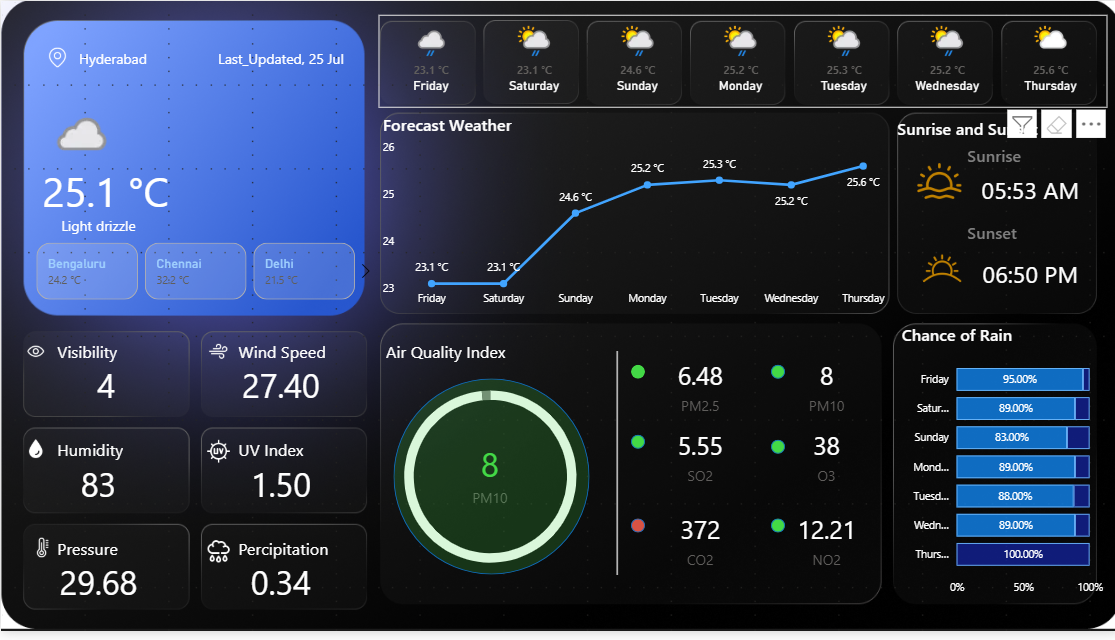

The dashboard page shown, as its layout file describes it:
{"tool":"powerbi","page":{"name":"Page 1","canvas":[1280,720],"ordinal":0},"visuals":[{"type":"advancedSlicerVisual","fields":{"Values":["Locations.location.name"]},"box":[16,272,416,75],"z":0},{"type":"shape","box":[32,176,176,80],"z":1000},{"type":"shape","box":[32,240,160,32],"z":2000},{"type":"shape","box":[80,48,96,32],"z":3000},{"type":"shape","box":[240,48,160,32],"z":4000},{"type":"image","box":[48,48,32,32],"z":5000},{"type":"cardVisual","fields":{"Data":["Min(Current.current.condition.icon)"]},"box":[32,96,112,80],"z":6000},{"type":"image","box":[16,384,48,32],"z":7000},{"type":"shape","box":[64,384,192,32],"z":8000},{"type":"image","box":[16,496,48,32],"z":9000},{"type":"shape","box":[64,496,192,32],"z":10000},{"type":"image","box":[224,384,48,32],"z":11000},{"type":"shape","box":[272,384,192,32],"z":12000},{"type":"image","box":[224,496,48,38],"z":13000},{"type":"shape","box":[272,608,192,32],"z":14000},{"type":"image","box":[16,608,64,32],"z":15000},{"type":"shape","box":[64,608,192,32],"z":16000},{"type":"image","box":[224,608,48,41],"z":17000},{"type":"shape","box":[272,496,192,32],"z":18000},{"type":"card","fields":{"Values":["Sum(Current.current.vis_km)"]},"box":[48,416,144,48],"z":19000},{"type":"card","fields":{"Values":["Sum(Current.current.wind_kph)"]},"box":[240,416,160,48],"z":20000},{"type":"card","fields":{"Values":["Sum(Current.current.uv)"]},"box":[240,528,160,48],"z":21000},{"type":"card","fields":{"Values":["Sum(Current.current.humidity)"]},"box":[32,528,160,48],"z":22000},{"type":"card","fields":{"Values":["Sum(Current.current.pressure_in)"]},"box":[32,640,160,48],"z":23000},{"type":"card","fields":{"Values":["Sum(Current.current.precip_mm)"]},"box":[240,640,160,48],"z":24000},{"type":"advancedSlicerVisual","fields":{"Values":["Forecast_Day.Day_Name"]},"box":[432,16,832,107],"z":25000},{"type":"lineChart","title":"Forecast Weather","fields":{"Y":["Sum(Forecast_Day.forecast.forecastday.day.avgtemp_c)"],"Category":["Forecast_Day.Day_Name"]},"box":[432,128,592,230],"z":26000},{"type":"shape","box":[1024,128,223,34],"z":27000},{"type":"shape","box":[1088,192,176,48],"z":28000},{"type":"shape","box":[1088,272,176,80],"z":29000},{"type":"shape","box":[1104,160,160,32],"z":30000},{"type":"shape","box":[1104,240,160,48],"z":31000},{"type":"image","box":[1040,272,71,68],"z":32000},{"type":"image","box":[1040,176,64,60],"z":33000},{"type":"hundredPercentStackedBarChart","title":"Chance of Rain","fields":{"Y":["Sum(Forecast_Day.forecast.forecastday.day.daily_chance_of_rain)","_Measures.Left_Value_Rain"],"Category":["Forecast_Day.Day_Name"]},"box":[1024,368,240,320],"z":34000},{"type":"shape","box":[440,384,195,32],"z":35000},{"type":"card","fields":{"Values":["Sum(Current.current.air_quality.pm10)"]},"box":[896,400,96,80],"z":36000},{"type":"card","fields":{"Values":["Sum(Current.current.air_quality.o3)"]},"box":[896,480,96,80],"z":37000},{"type":"card","fields":{"Values":["Sum(Current.current.air_quality.no2)"]},"box":[896,576,96,80],"z":38000},{"type":"card","fields":{"Values":["Sum(Current.current.air_quality.co)"]},"box":[752,576,96,80],"z":39000},{"type":"card","fields":{"Values":["Sum(Current.current.air_quality.so2)"]},"box":[752,480,96,80],"z":40000},{"type":"card","fields":{"Values":["Sum(Current.current.air_quality.pm2_5)"]},"box":[752,400,96,80],"z":41000},{"type":"shape","box":[720,416,16,16],"z":42000},{"type":"shape","box":[720,496,16,16],"z":43000},{"type":"shape","box":[720,592,16,16],"z":45000},{"type":"shape","box":[880,416,16,16],"z":46000},{"type":"shape","box":[880,501,16,16],"z":47000},{"type":"shape","box":[880,592,16,16],"z":48000},{"type":"shape","box":[624,400,160,256],"z":49000},{"type":"card","fields":{"Values":["Sum(Current.current.air_quality.pm10)"]},"box":[512,496,95,90],"z":50000},{"type":"donutChart","fields":{"Y":["_Measures.Left_Value_PM10","Sum(Current.current.air_quality.pm10)"]},"box":[432,416,256,256],"z":51000},{"type":"shape","box":[448,432,224,224],"z":52000}]}

Visuals, with their boxes in screenshot pixels (x1, y1, x2, y2), scaled from the page's 1280x720 canvas onto the 1115x640 screenshot:
advancedSlicerVisual - Locations.location.name: 14,242,376,308
shape: 28,156,181,228
shape: 28,213,167,242
shape: 70,43,153,71
shape: 209,43,348,71
image: 42,43,70,71
cardVisual - Min(Current.current.condition.icon): 28,85,125,156
image: 14,341,56,370
shape: 56,341,223,370
image: 14,441,56,469
shape: 56,441,223,469
image: 195,341,237,370
shape: 237,341,404,370
image: 195,441,237,475
shape: 237,540,404,569
image: 14,540,70,569
shape: 56,540,223,569
image: 195,540,237,577
shape: 237,441,404,469
card - Sum(Current.current.vis_km): 42,370,167,412
card - Sum(Current.current.wind_kph): 209,370,348,412
card - Sum(Current.current.uv): 209,469,348,512
card - Sum(Current.current.humidity): 28,469,167,512
card - Sum(Current.current.pressure_in): 28,569,167,612
card - Sum(Current.current.precip_mm): 209,569,348,612
advancedSlicerVisual - Forecast_Day.Day_Name: 376,14,1101,109
"Forecast Weather" lineChart: 376,114,892,318
shape: 892,114,1086,144
shape: 948,171,1101,213
shape: 948,242,1101,313
shape: 962,142,1101,171
shape: 962,213,1101,256
image: 906,242,968,302
image: 906,156,962,210
"Chance of Rain" hundredPercentStackedBarChart: 892,327,1101,612
shape: 383,341,553,370
card - Sum(Current.current.air_quality.pm10): 780,356,864,427
card - Sum(Current.current.air_quality.o3): 780,427,864,498
card - Sum(Current.current.air_quality.no2): 780,512,864,583
card - Sum(Current.current.air_quality.co): 655,512,739,583
card - Sum(Current.current.air_quality.so2): 655,427,739,498
card - Sum(Current.current.air_quality.pm2_5): 655,356,739,427
shape: 627,370,641,384
shape: 627,441,641,455
shape: 627,526,641,540
shape: 767,370,780,384
shape: 767,445,780,460
shape: 767,526,780,540
shape: 544,356,683,583
card - Sum(Current.current.air_quality.pm10): 446,441,529,521
donutChart - _Measures.Left_Value_PM10 x Sum(Current.current.air_quality.pm10): 376,370,599,597
shape: 390,384,585,583
